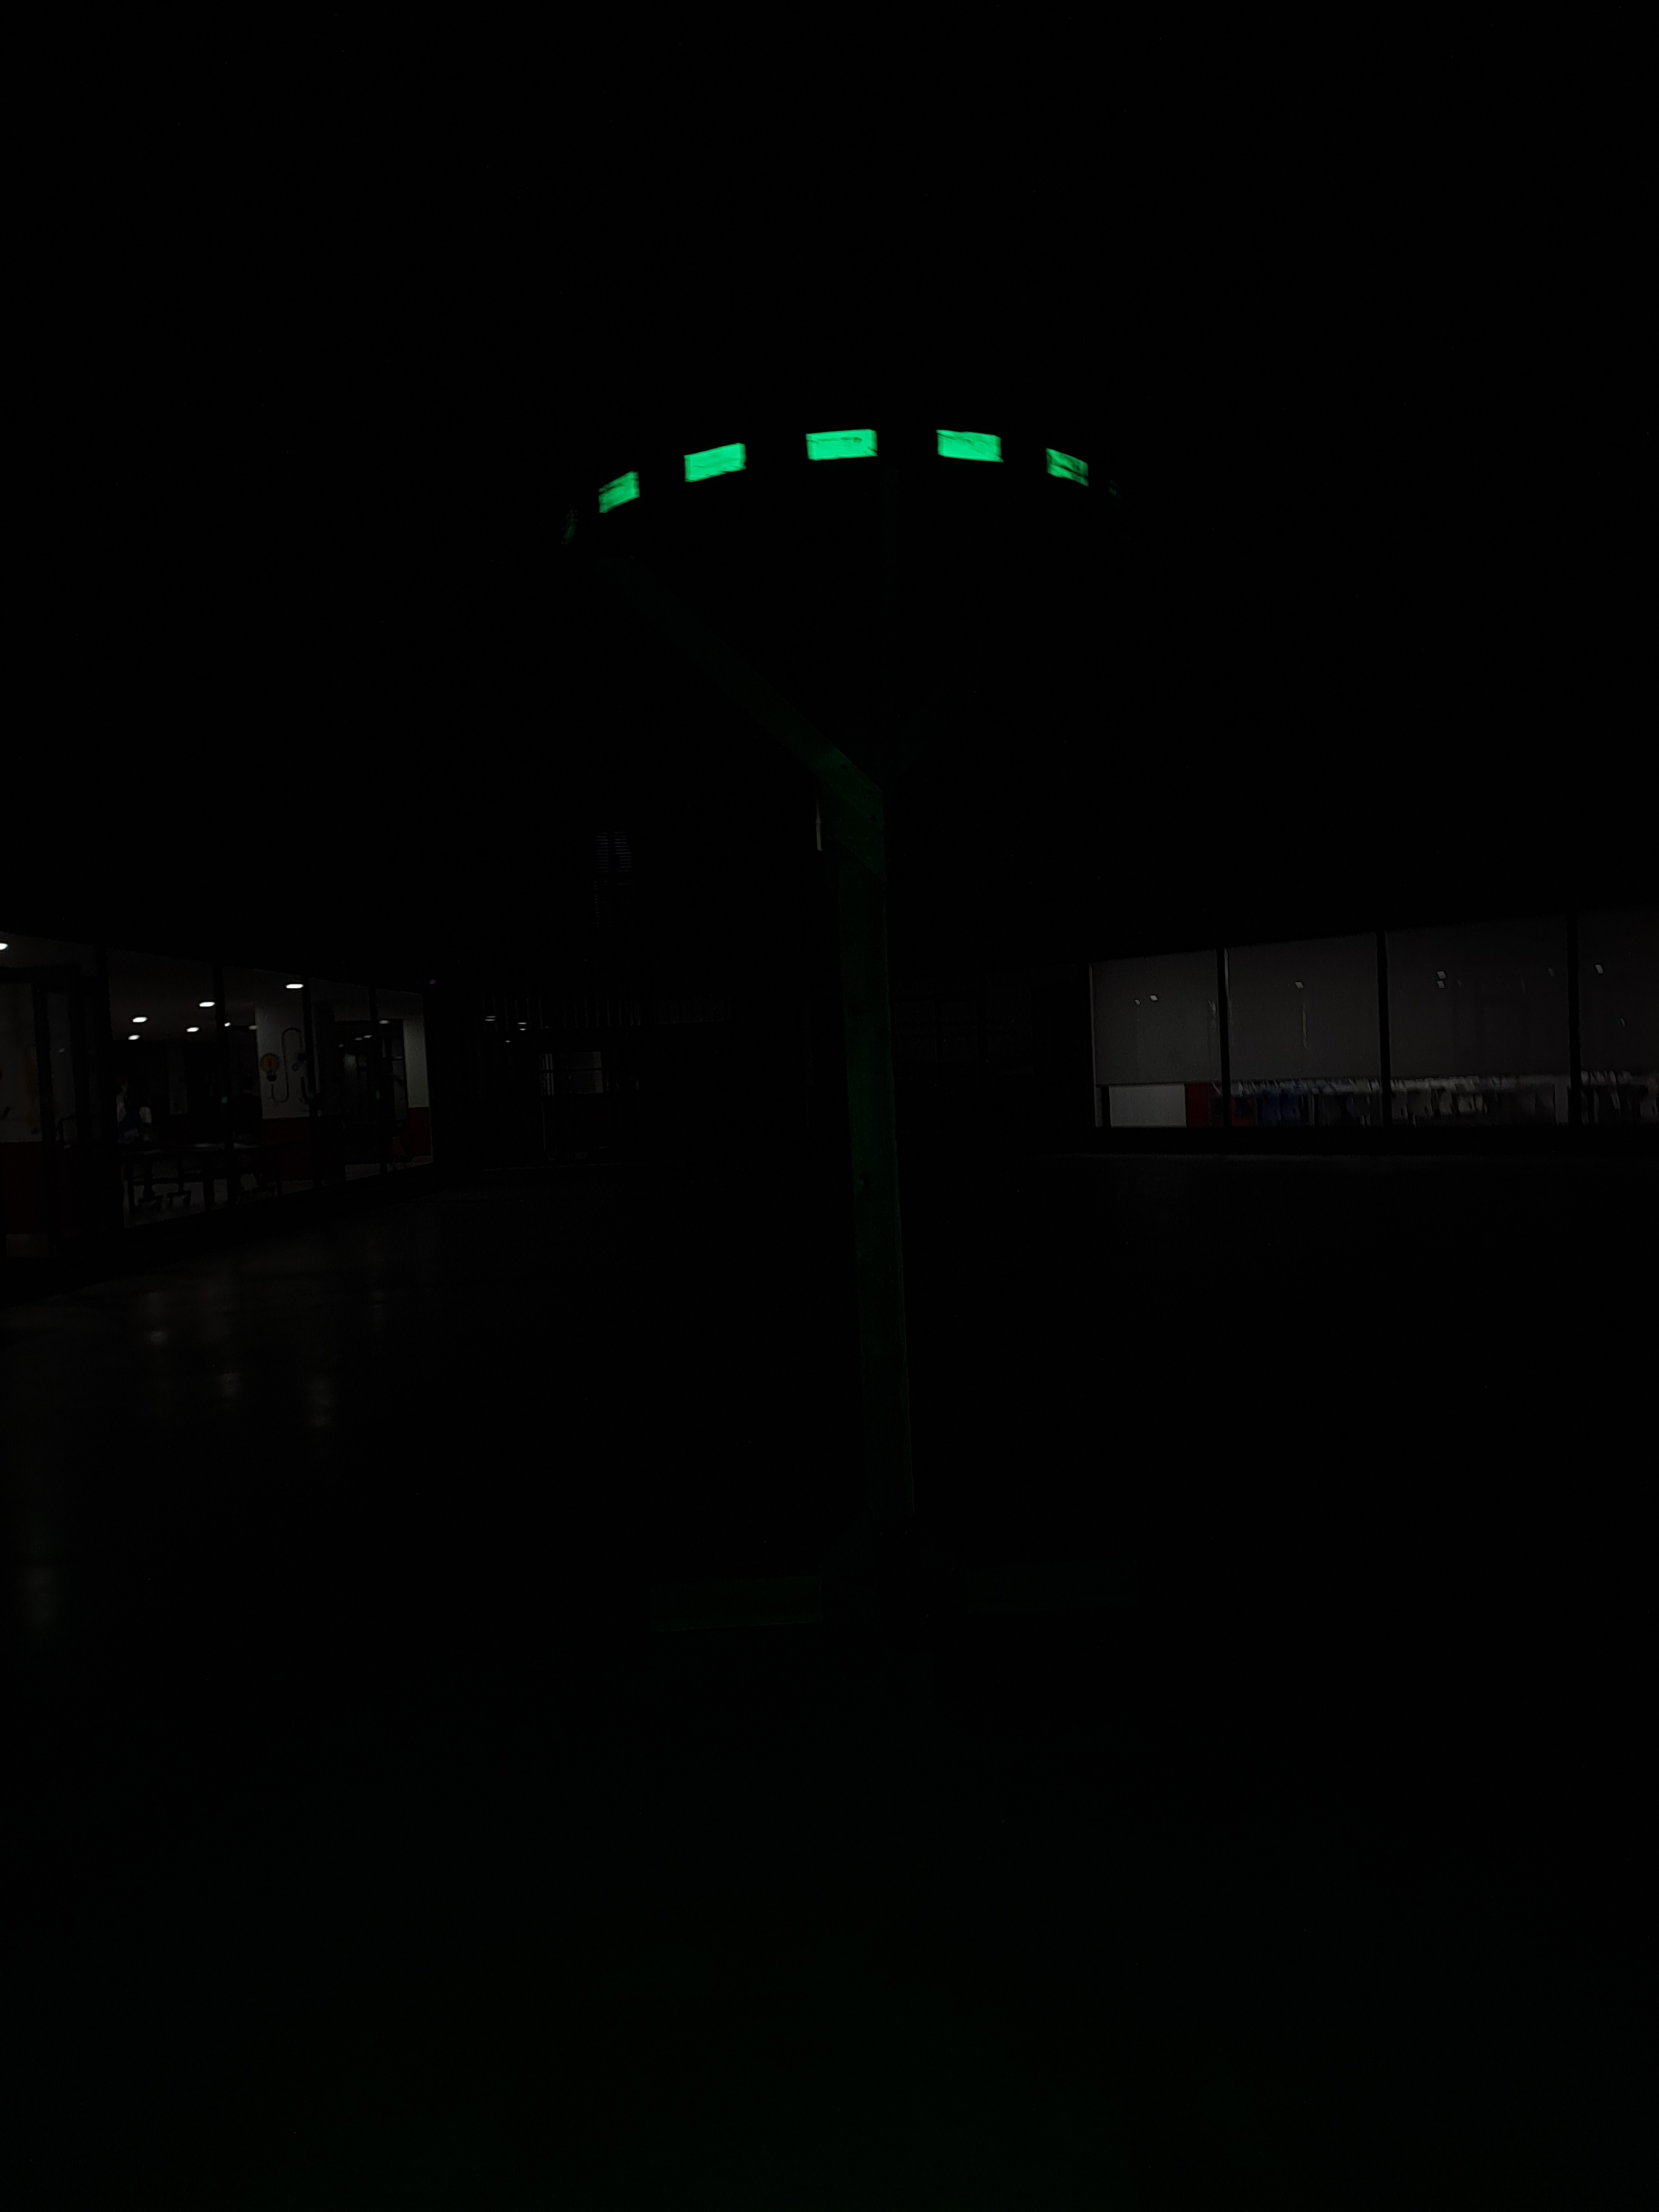hoop: (587, 423, 1094, 519)
